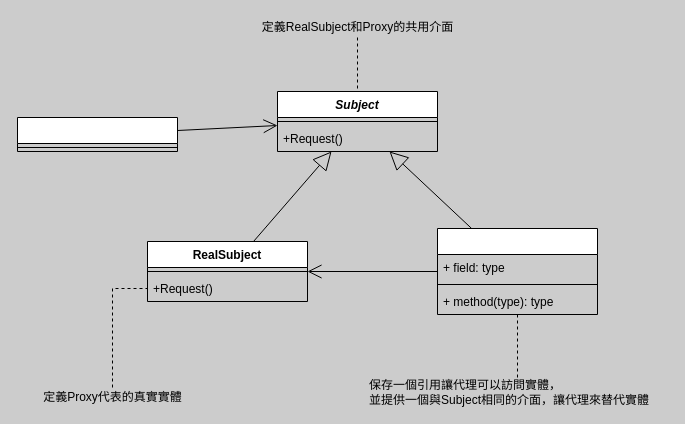
Some shapes in this 685 by 424 pixel diagram are drawn without their labels. The box of each missing label's shape, as (x1, y1, x2, y2) in pixels:
Client: (16, 116, 178, 152)
Proxy: (436, 228, 598, 314)
